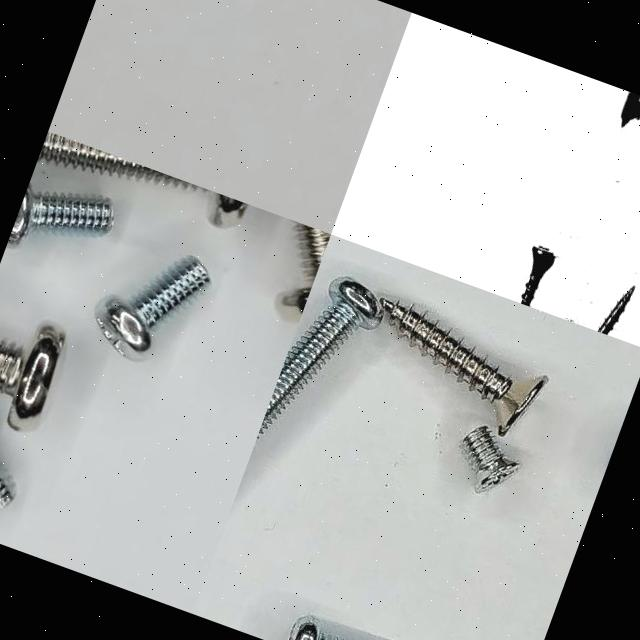Screw: (380, 298, 548, 436), (257, 277, 383, 437), (96, 256, 209, 360), (0, 324, 64, 429), (7, 185, 112, 245), (460, 426, 520, 492), (519, 245, 555, 307), (596, 284, 635, 335), (621, 92, 640, 125)
